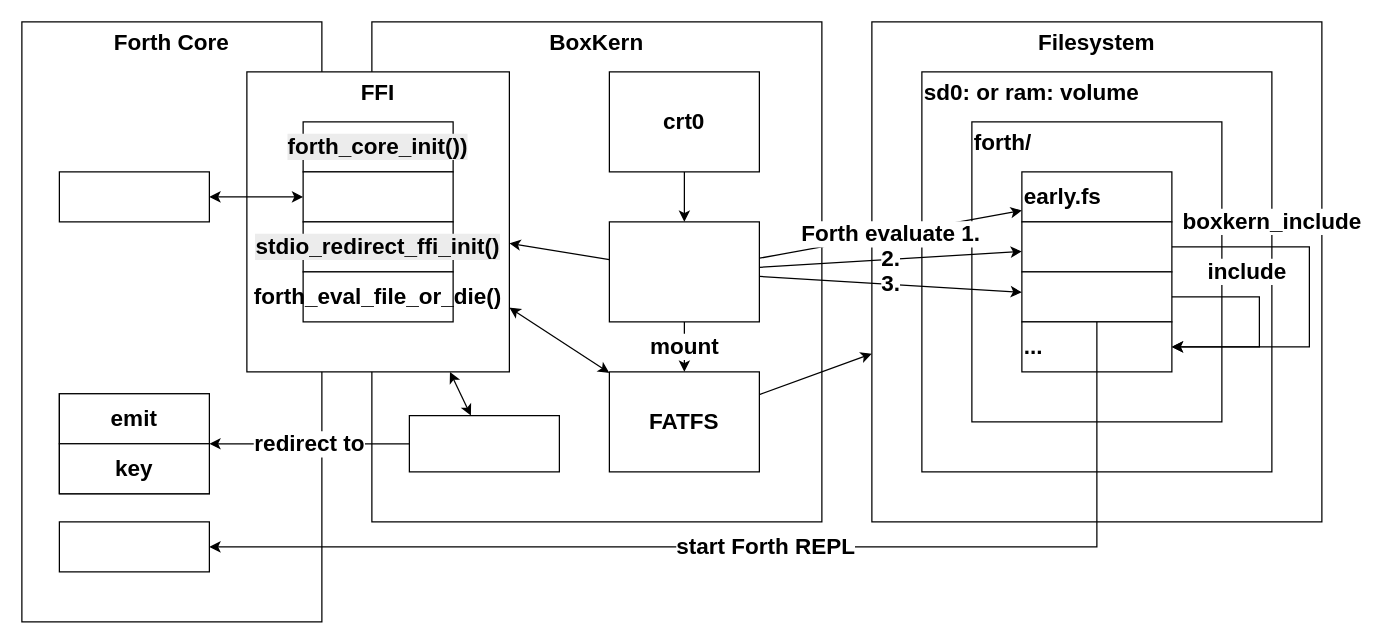
Image size: 1383x644. Some labels were removed from this diagram. The centre of each missing label's shape, as x and y in pixels:
"boxkern-includes.fs" goes at point 1096,246.
"C stdio" goes at point 483,443.
"fs_* Words" goes at point 133,196.
"fs_ffi_init()" goes at point 377,196.
"init.fs" goes at point 1096,296.
"main()" goes at point 683,271.
"quit" goes at point 133,546.
